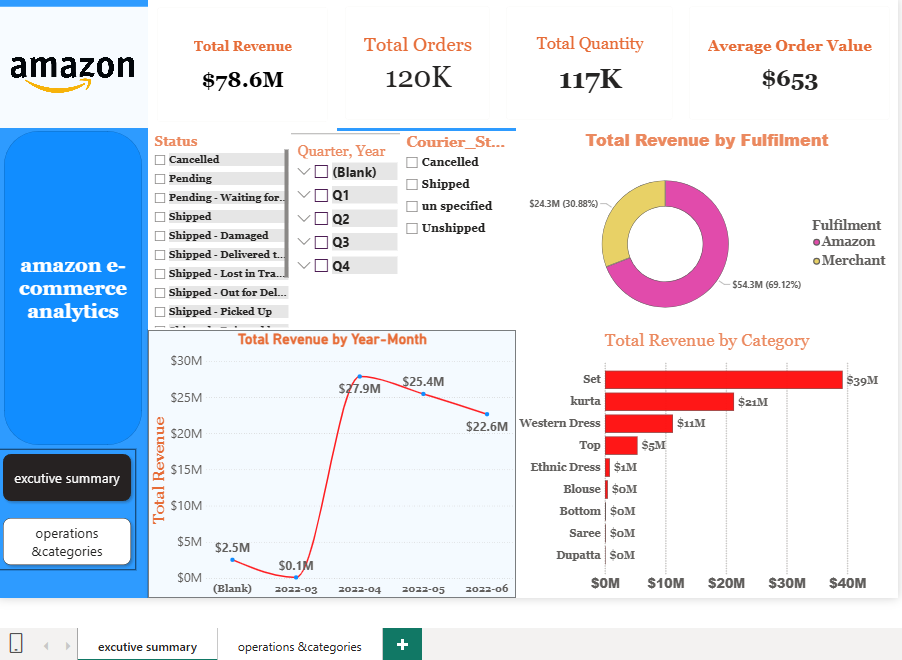

This screenshot's page, from the dashboard's own definition file:
{"tool":"powerbi","page":{"name":"excutive summary","canvas":[1800,1200],"ordinal":0},"visuals":[{"type":"cardVisual","fields":{"Data":["all_ measures.Total Revenue"]},"box":[300,0,378,266],"z":0},{"type":"cardVisual","fields":{"Data":["all_ measures.Average Order Value"]},"box":[1366,0,434,260],"z":1000},{"type":"cardVisual","fields":{"Data":["all_ measures.Total Quantity"]},"box":[1000,0,366,260],"z":2000},{"type":"cardVisual","fields":{"Data":["all_ measures.Total Orders"]},"box":[678,0,322,260],"z":3000},{"type":"lineChart","fields":{"Category":["Dim_Date.Year-Month","Dim_Date.Month Name"],"Y":["all_ measures.Total Revenue"]},"box":[300,664,736,536],"z":4000},{"type":"clusteredBarChart","fields":{"Y":["all_ measures.Total Revenue"],"Category":["vw_Amazon_Sales_Clean.Category"]},"box":[1036,664,764,536],"z":5000},{"type":"donutChart","fields":{"Category":["vw_Amazon_Sales_Clean.Fulfilment"],"Y":["all_ measures.Total Revenue"]},"box":[1036,260,764,404],"z":6000},{"type":"slicer","fields":{"Values":["Dim_Date.Quarter","Dim_Date.Year"]},"box":[586,266,218,398],"z":7000},{"type":"slicer","fields":{"Values":["vw_Amazon_Sales_Clean.Status"]},"box":[300,266,286,398],"z":8000},{"type":"slicer","fields":{"Values":["vw_Amazon_Sales_Clean.Courier_Status"]},"box":[804,266,232,398],"z":9000},{"type":"pageNavigator","box":[0,902,276,242],"z":10000},{"type":"image","box":[0,0,300,260],"z":10001},{"type":"shape","box":[12,266,276,628],"z":10002}]}

Visuals, with their boxes on the page's 1800x1200 design canvas (x1, y1, x2, y2). These are canvas units, not pixel positions in the 902x660 screenshot, which may show the page scaled, cropped or inside an application window:
cardVisual - all_ measures.Total Revenue: 300 0 678 266
cardVisual - all_ measures.Average Order Value: 1366 0 1800 260
cardVisual - all_ measures.Total Quantity: 1000 0 1366 260
cardVisual - all_ measures.Total Orders: 678 0 1000 260
lineChart - Dim_Date.Year-Month x Dim_Date.Month Name: 300 664 1036 1200
clusteredBarChart - all_ measures.Total Revenue x vw_Amazon_Sales_Clean.Category: 1036 664 1800 1200
donutChart - vw_Amazon_Sales_Clean.Fulfilment x all_ measures.Total Revenue: 1036 260 1800 664
slicer - Dim_Date.Quarter x Dim_Date.Year: 586 266 804 664
slicer - vw_Amazon_Sales_Clean.Status: 300 266 586 664
slicer - vw_Amazon_Sales_Clean.Courier_Status: 804 266 1036 664
pageNavigator: 0 902 276 1144
image: 0 0 300 260
shape: 12 266 288 894
